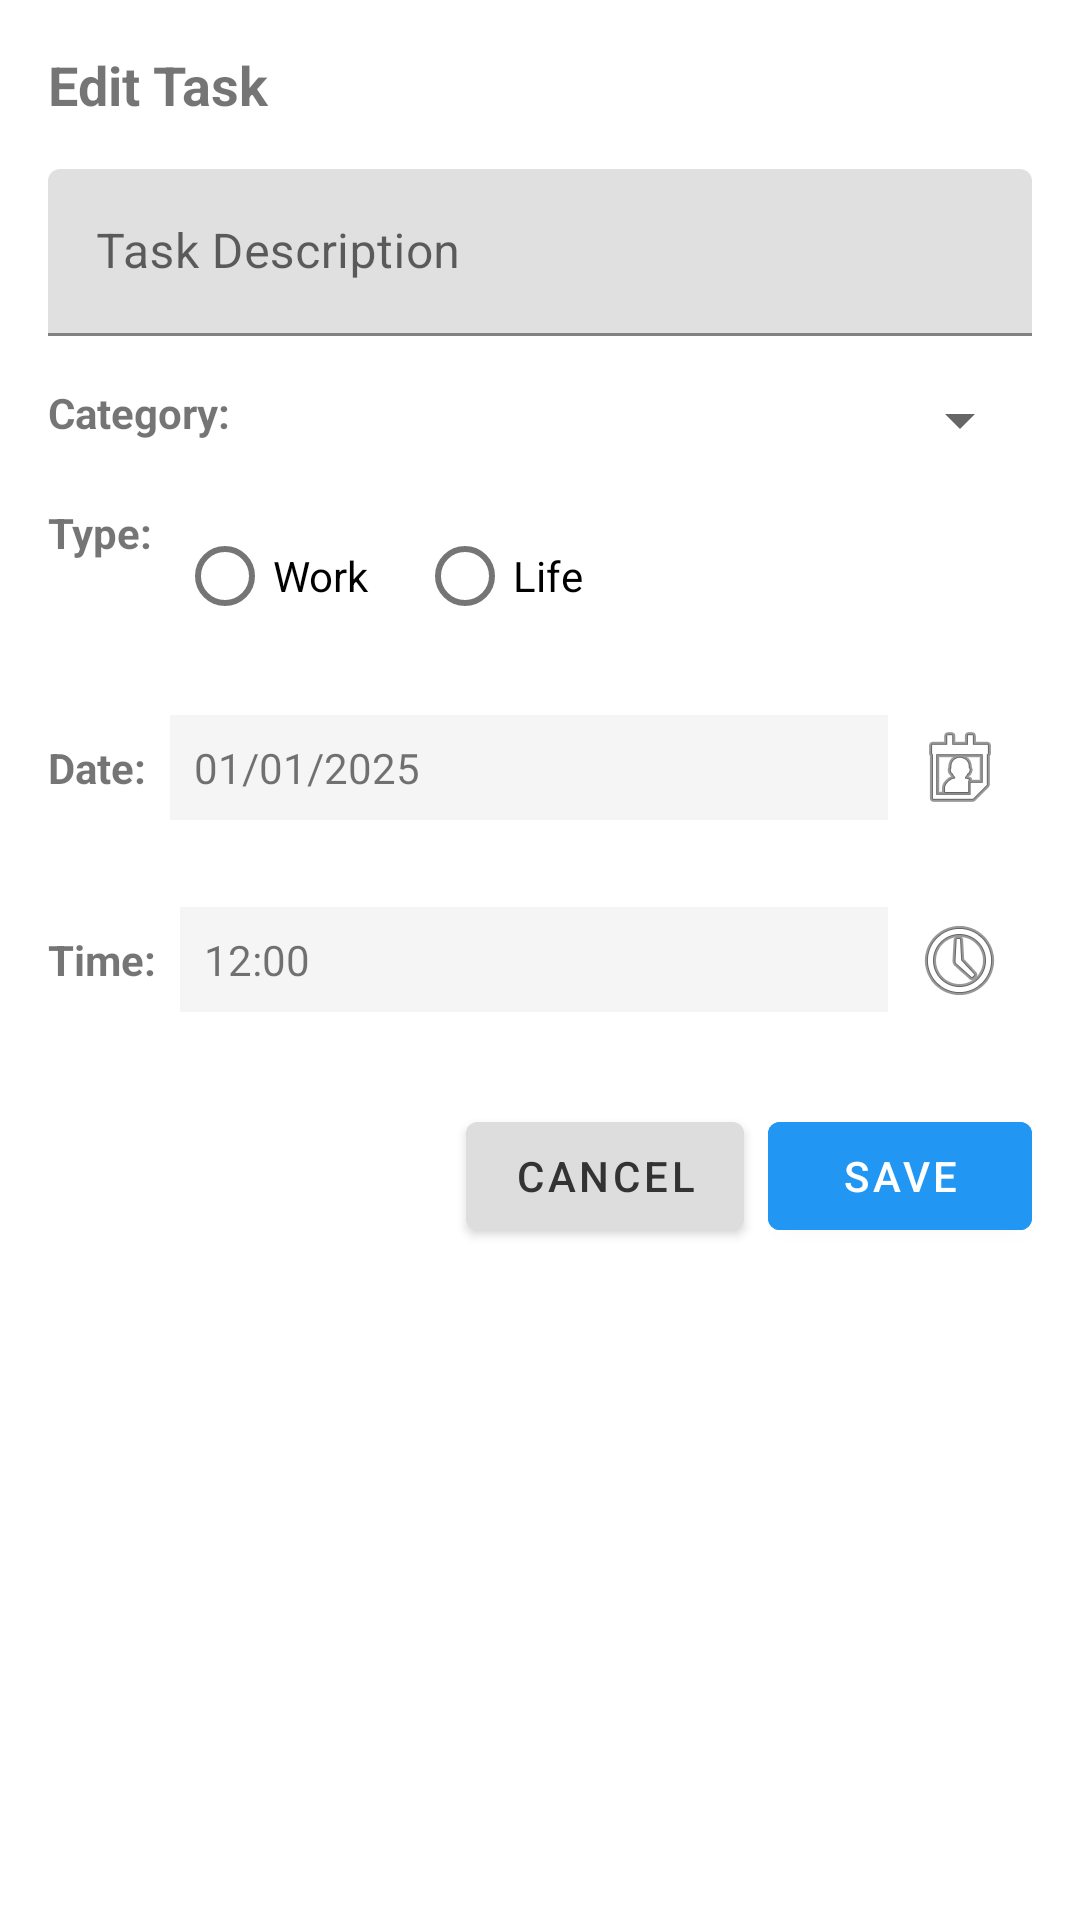

Screen size 1080px×1920px. Icon name, then its center in pixels as (x,y):
Select date: (960,767)
Select time: (959,960)
